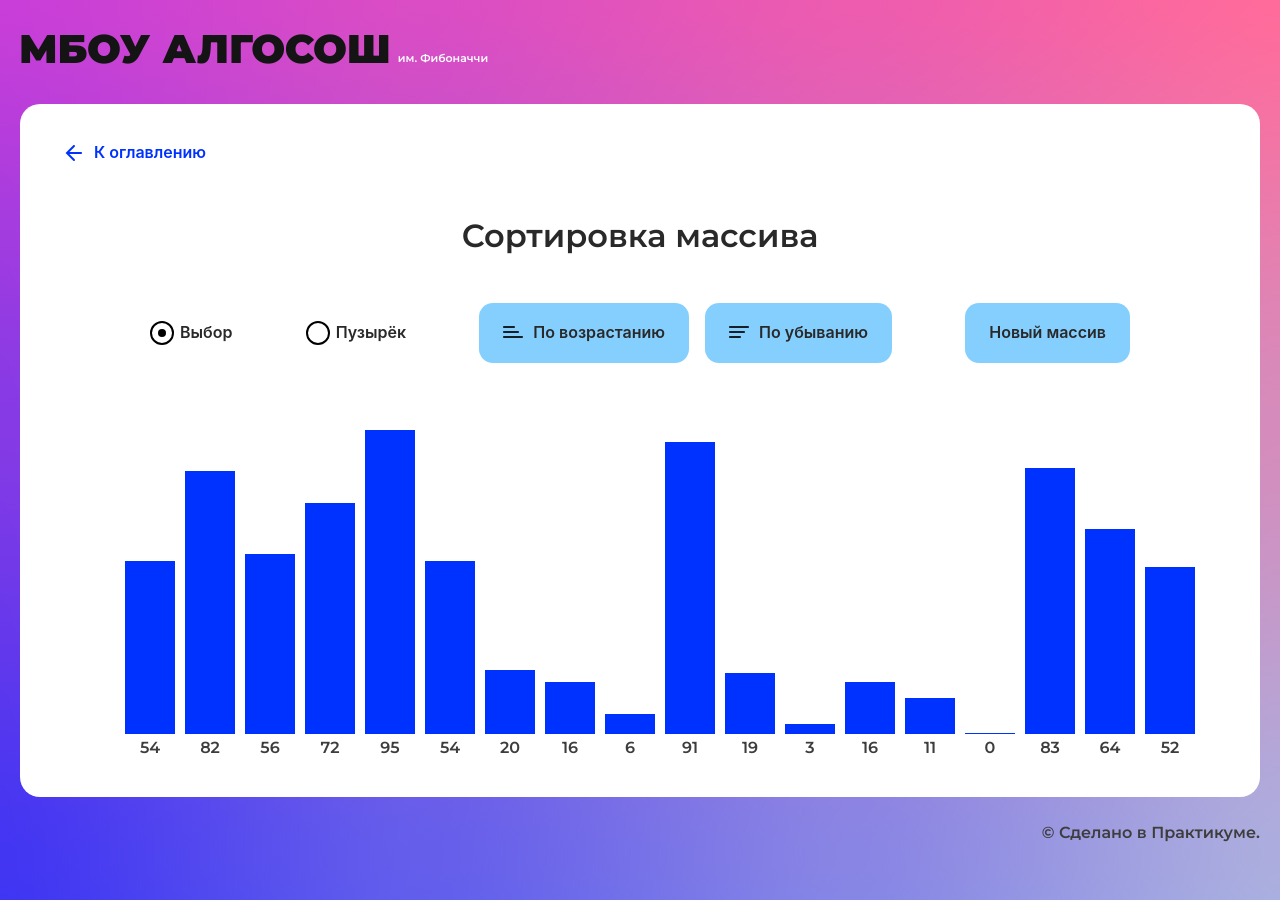
it: checking the operation of the buttons on the sorting page › check for disabling buttons, the presence of a loader on the selected sort button-descending during sorting
Click the button with test id "button-descending" at point(799, 333), box [705,303,892,363]
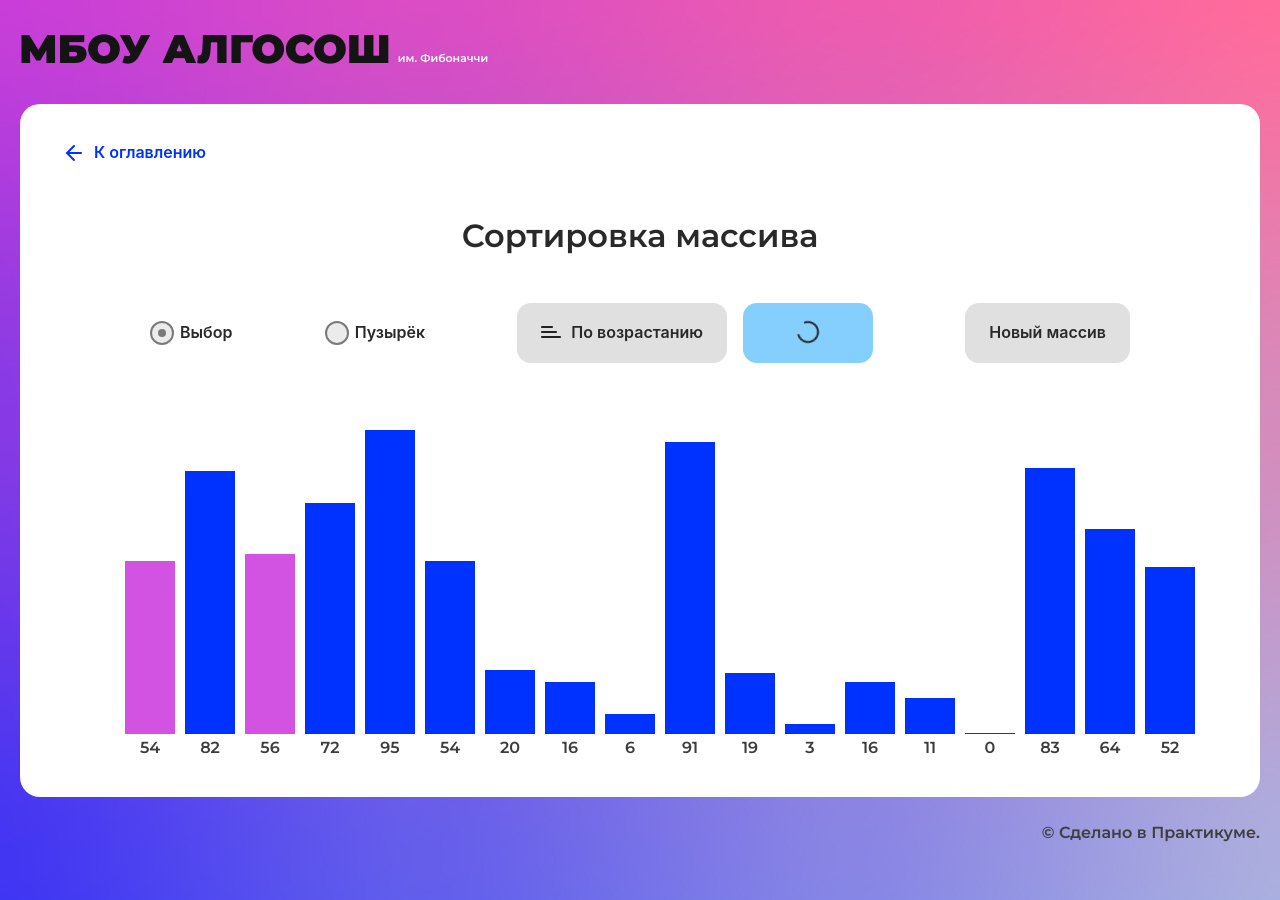
Expected: the button with test id "button-increase" is disabled, [517,303,727,363]
Expected: the button with test id "new-array" is disabled, [965,303,1130,363]
